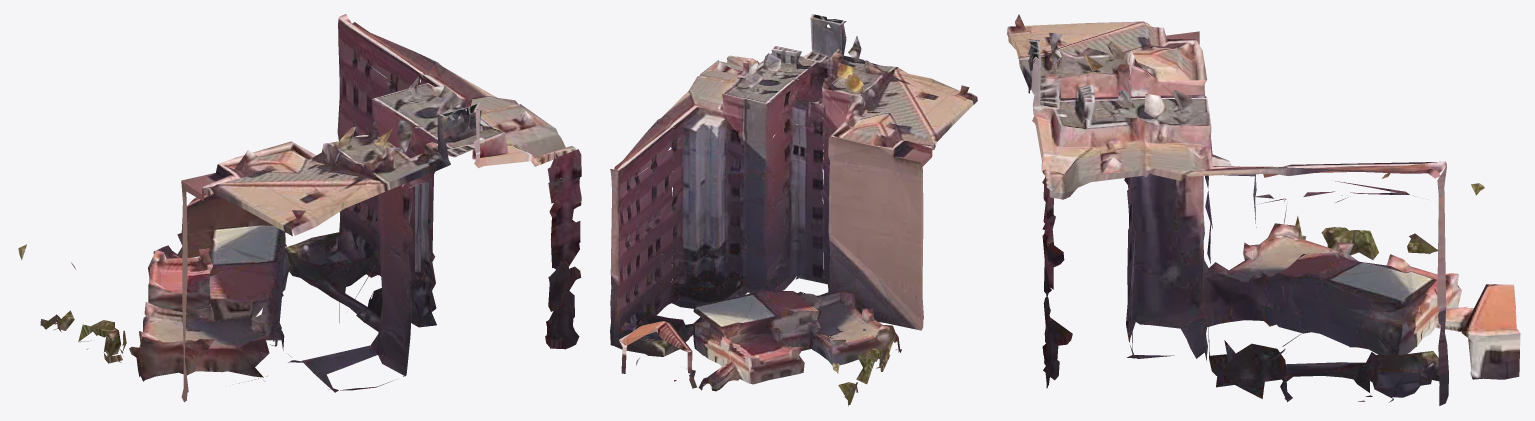
3 renders of one model, left to right at view 1: azimuth 30°, elevation 25°; view 2: azimuth 150°, elevation 25°; view 3: azimuth 270°, elevation 25°, orthographic. The views are drawn at different scales.
Visible parts, largest first — view 1: Mesh_0; view 2: Mesh_0; view 3: Mesh_0.
Part boxes in pixels (x1,y1,x2,y2): Mesh_0: [18, 14, 581, 402]; Mesh_0: [610, 14, 977, 406]; Mesh_0: [1007, 14, 1520, 405].
Size of the model in its own units: 34.08 by 28.12 by 40.95.
2 materials, 2 textured.
